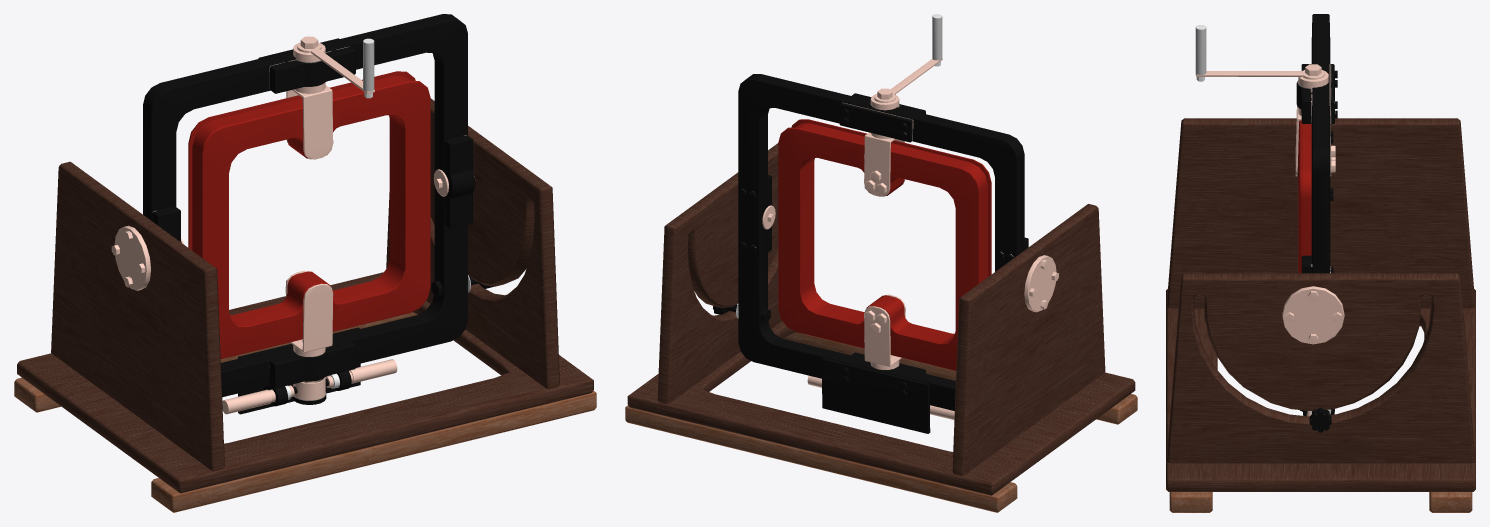
Rendered from Inductor.fbx.
The picture shows the model from 3 angles, left to right: view 1: azimuth 30°, elevation 25°; view 2: azimuth 150°, elevation 25°; view 3: azimuth 270°, elevation 25°; orthographic projection. The views are drawn at different scales.
Parts seen in each view (by area): view 1: Inductor, InductorRing, InnerRing; view 2: Inductor, InductorRing, InnerRing; view 3: Inductor, InductorRing, InnerRing.
Part boxes in pixels (x1,y1,x2,y2): Inductor: (14, 98, 596, 512); InductorRing: (143, 14, 493, 414); InnerRing: (188, 36, 430, 383); Inductor: (625, 143, 1137, 512); InductorRing: (713, 74, 1028, 433); InnerRing: (778, 14, 991, 370); Inductor: (1166, 118, 1475, 512); InductorRing: (1296, 14, 1337, 432); InnerRing: (1195, 25, 1335, 273).
Size of the model in its own units: 62.34 by 57.33 by 41.45.
